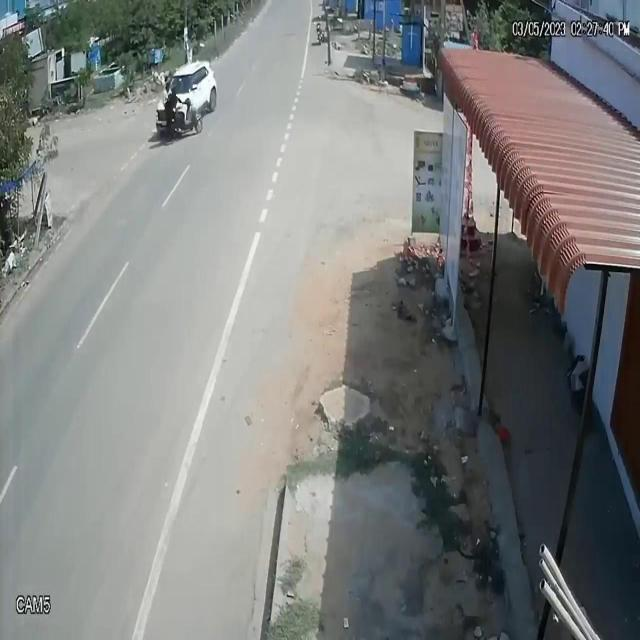accident: (148, 50, 224, 148)
